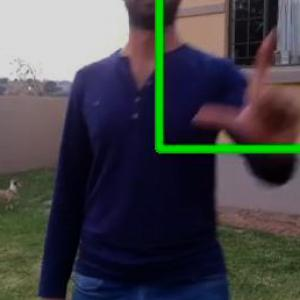land_hand: (186, 19, 299, 154)
